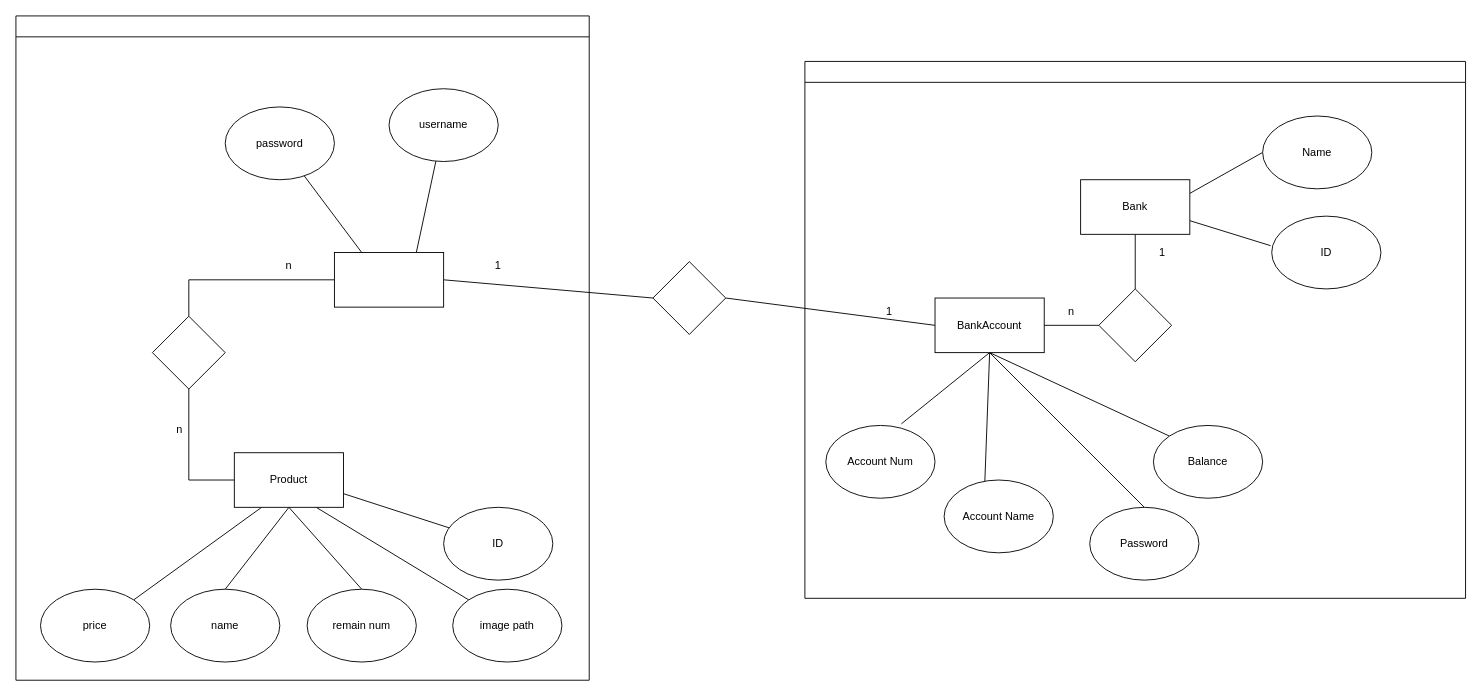
The diagram is 1481 pixels wide and 696 high, and some of its shapes have lost their labels. Each missing label, with the box of its shape:
Bank Agent: (804, 61, 1466, 598)
Buy: (152, 315, 225, 389)
Our App: (15, 15, 589, 680)
User: (334, 252, 444, 307)
